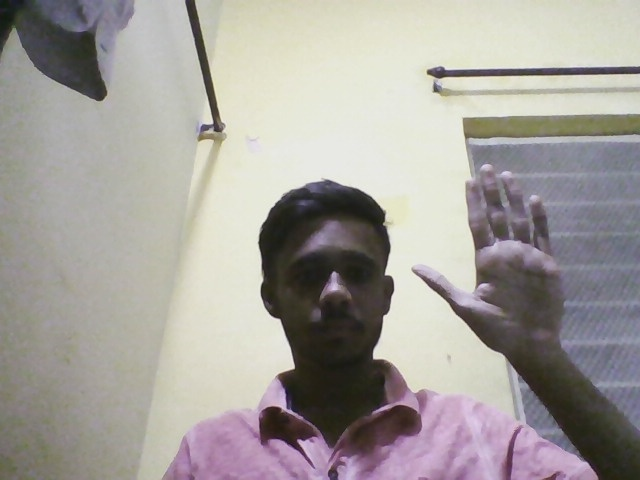hello: (405, 144, 632, 372)
